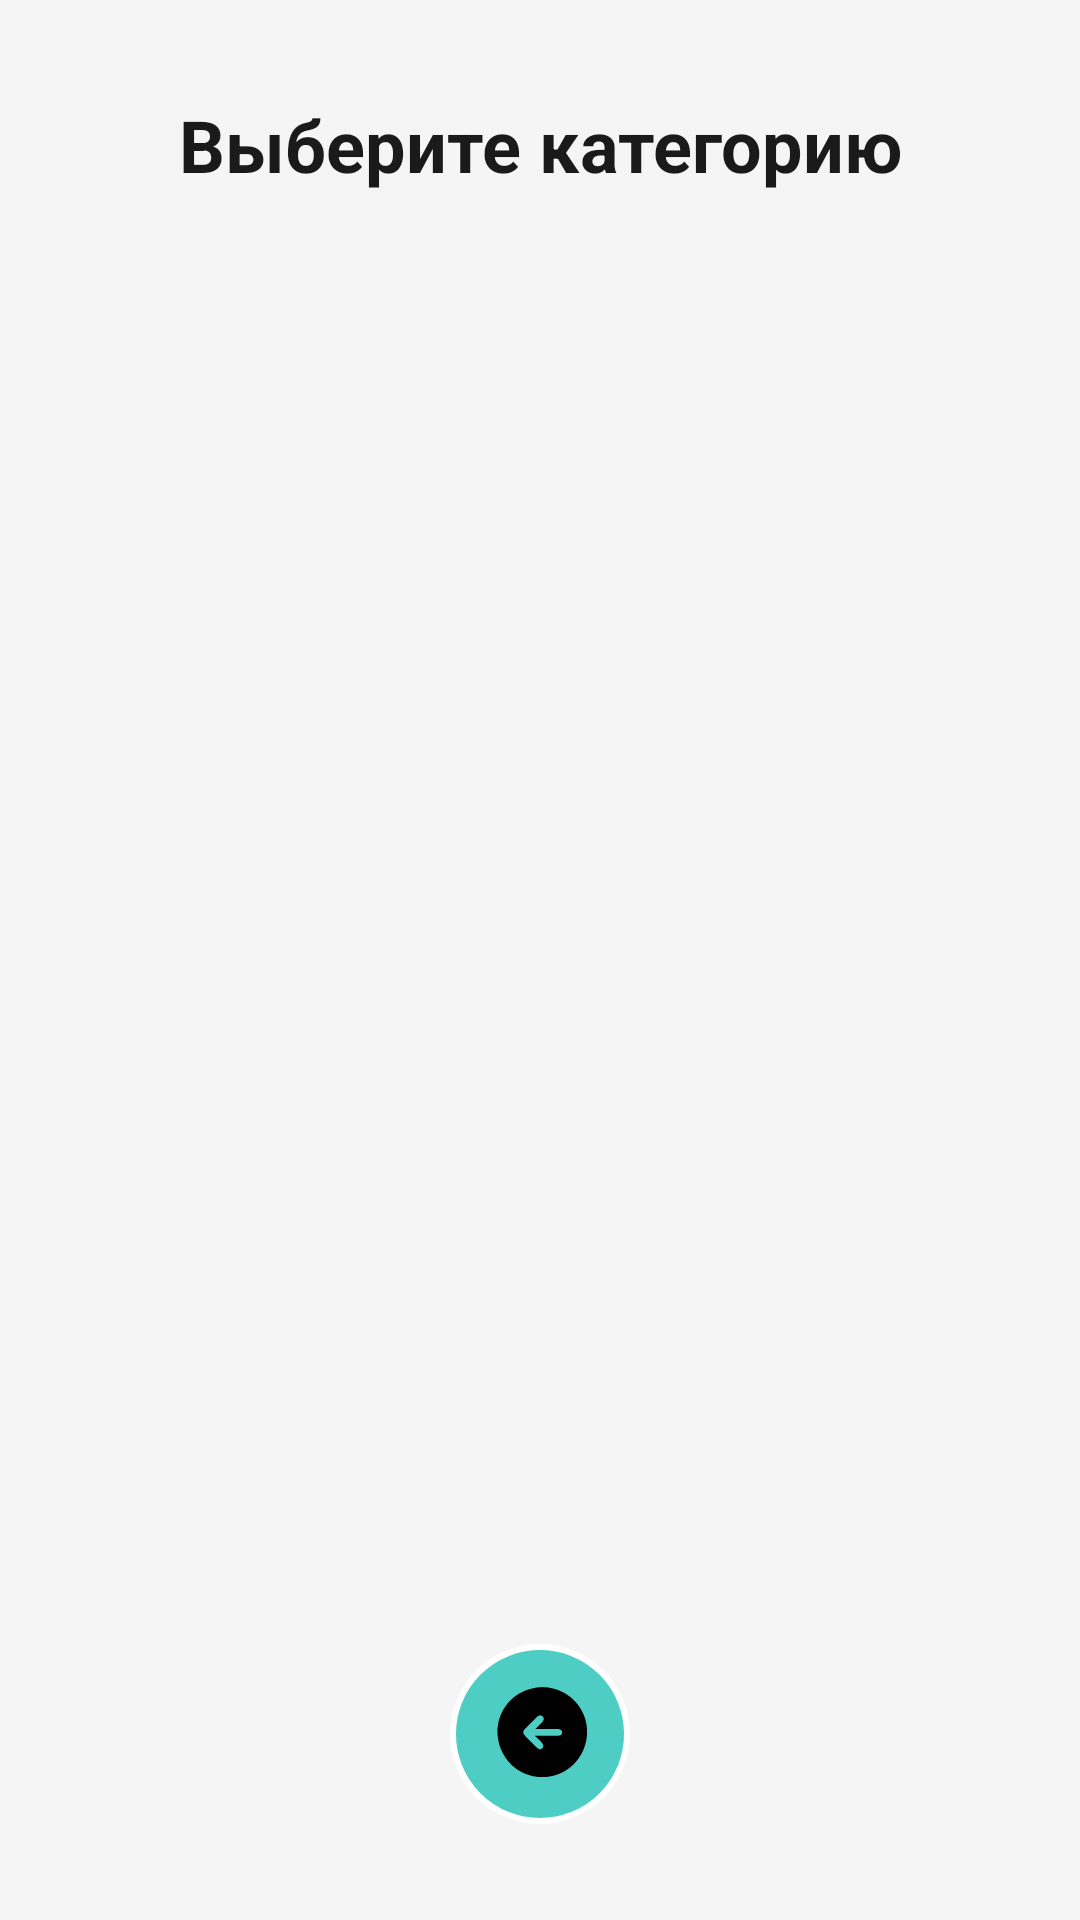

Where icons sit on this 1080 × 1920 app screen, as (x1, y1, x2, y2):
Назад: (456, 1650, 624, 1818)
